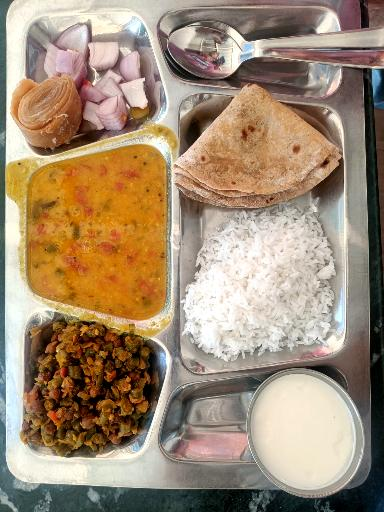Curd: (247, 367, 372, 496)
Dal: (25, 154, 165, 309)
Rice: (183, 211, 339, 358)
Roti: (178, 93, 348, 205)
Salad: (87, 23, 157, 124)
Sweet: (12, 80, 82, 149)
Vegetable: (17, 319, 162, 454)
